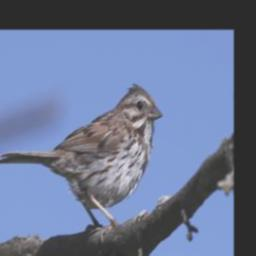Sparrow: (0, 80, 164, 241)
